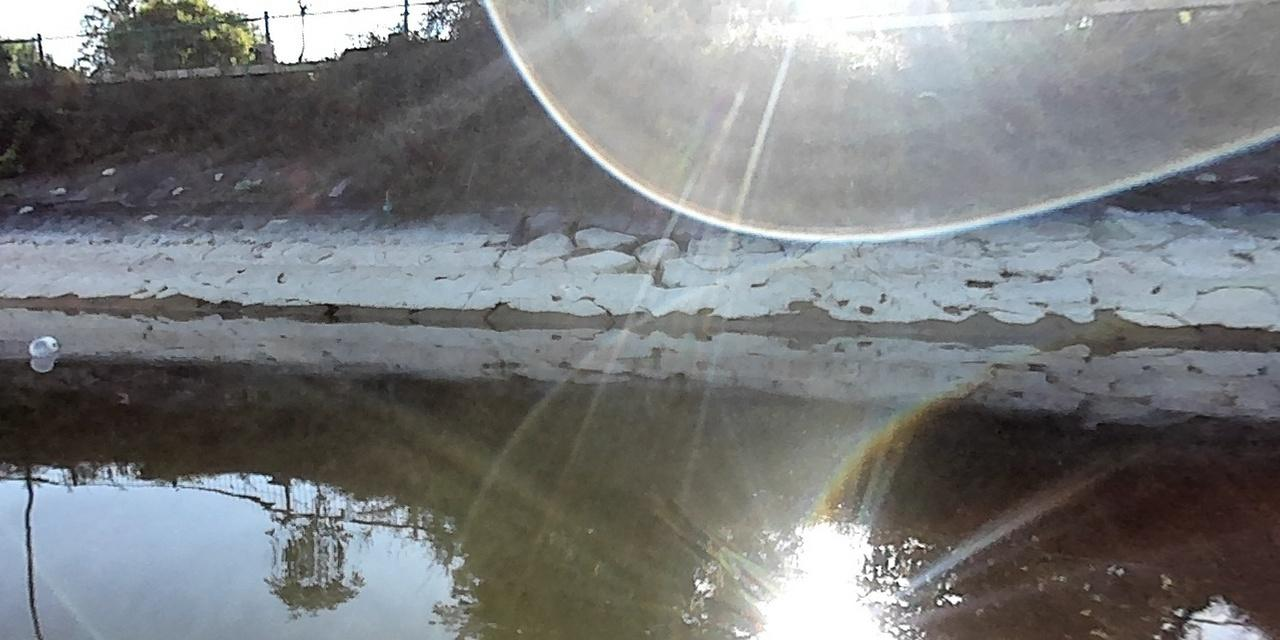bottle: (25, 330, 63, 359)
